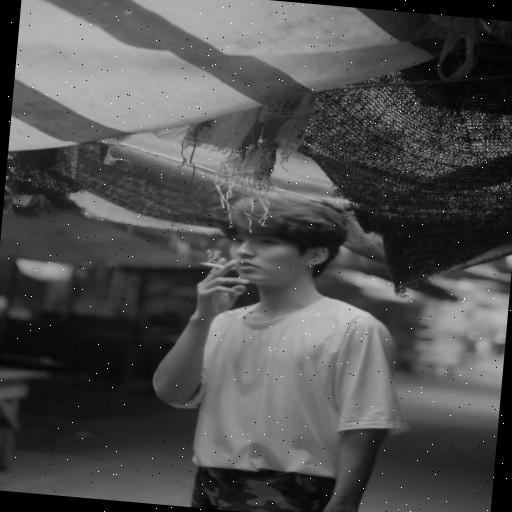terdeteksi merokok: (178, 214, 269, 300)
